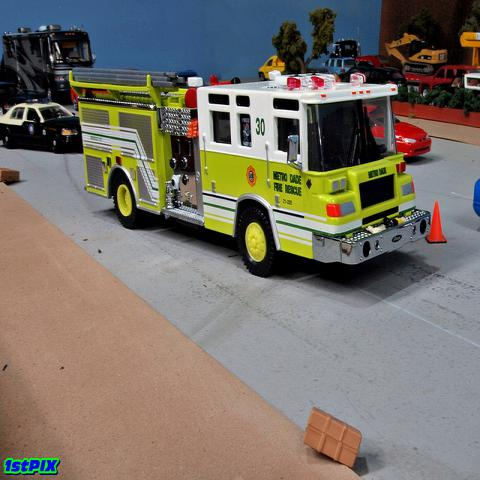car: (0, 99, 84, 154), (362, 106, 432, 158), (364, 66, 409, 89), (431, 73, 479, 91), (316, 57, 357, 77), (258, 55, 287, 81), (472, 178, 479, 219)
truck: (69, 64, 432, 277)
